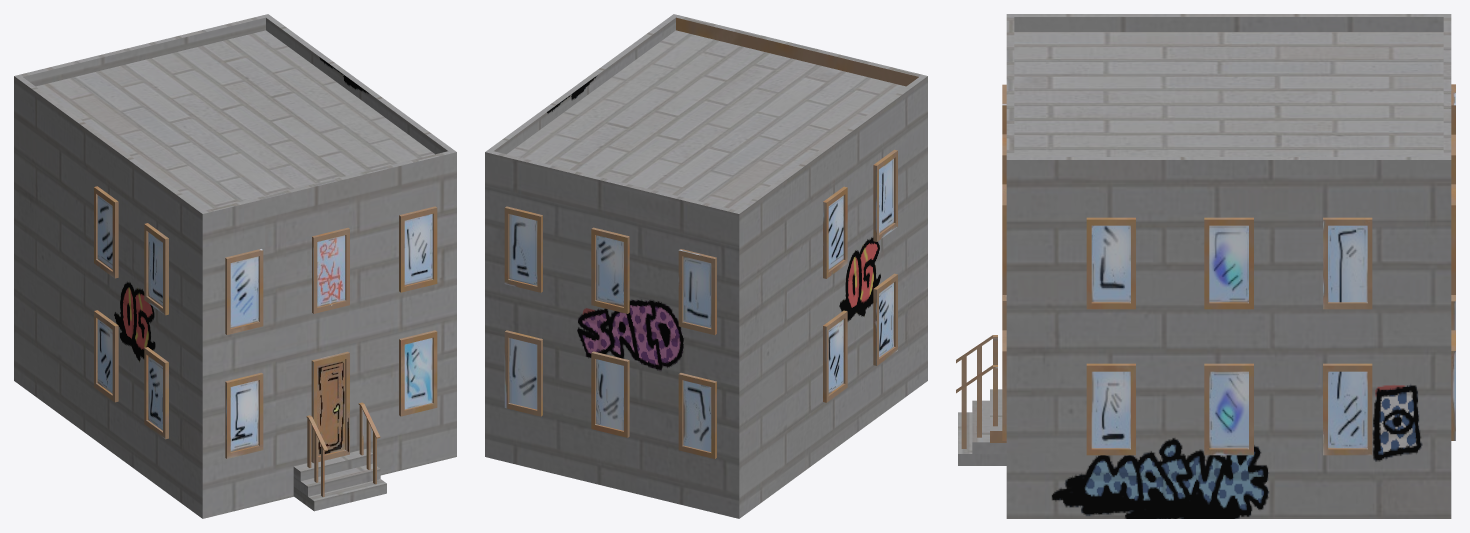
Rendered from type2building_2.fbx.
3 views of the same model, side by side, from view 1: azimuth 30°, elevation 25°; view 2: azimuth 150°, elevation 25°; view 3: azimuth 270°, elevation 25° (orthographic). The views are drawn at different scales.
Parts seen in each view (by area): view 1: Cube.004; view 2: Cube.004; view 3: Cube.004.
Part boxes in pixels (<box>): Cube.004: <box>14,14,456,518</box>; Cube.004: <box>485,14,927,518</box>; Cube.004: <box>956,14,1455,518</box>.
Bounding box in the file's own units: 1440 × 1604 × 2024.
